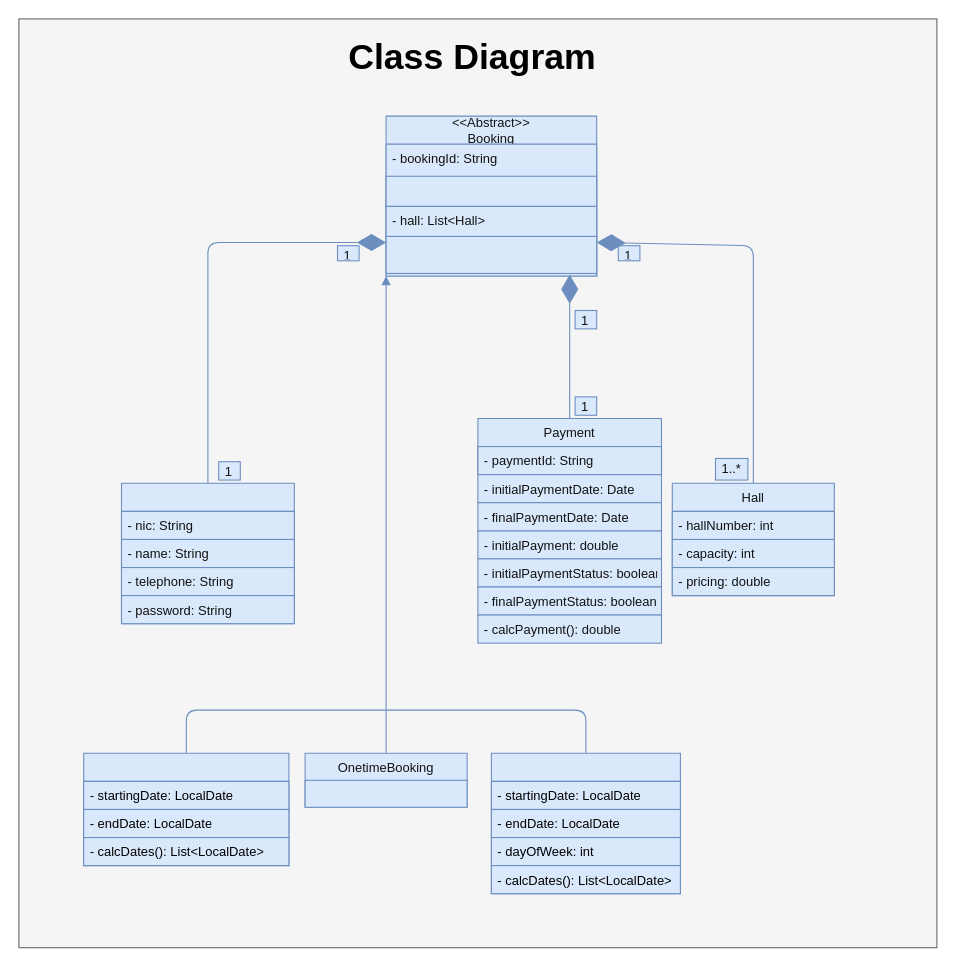
Image size: 956x967. Some labels were removed from this diagram. The box of each missing label's shape, as (x1, y1, x2, y2) in pixels:
- customer: Customer: (385, 175, 597, 206)
- date: LocalDate: (304, 779, 467, 807)
- payment: Payment: (385, 235, 597, 273)
Customer: (120, 482, 294, 624)
PeriodicBooking: (83, 752, 289, 866)
SpecificDayBooking: (490, 752, 680, 894)
